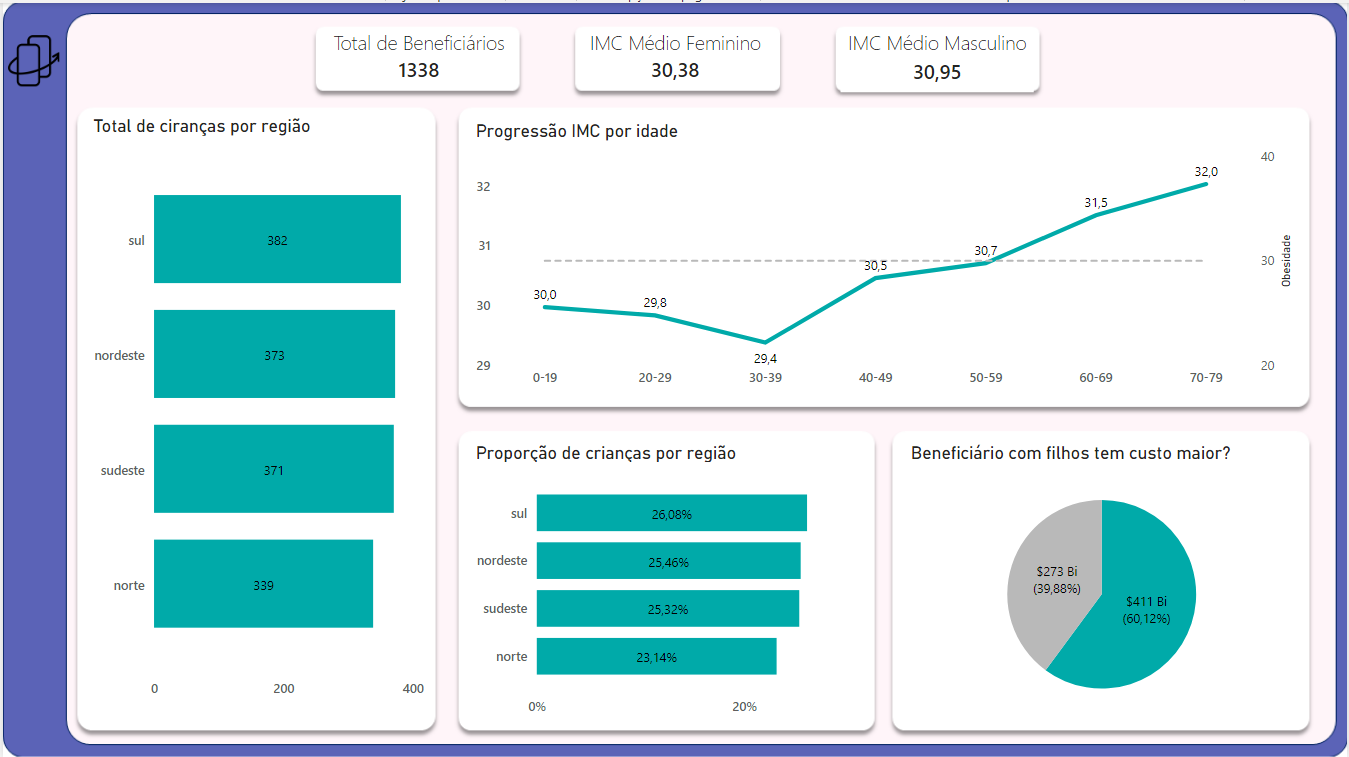

This screenshot's page, from the dashboard's own definition file:
{"tool":"powerbi","page":{"name":"Perfil Usuário","canvas":[1280,720],"ordinal":1},"visuals":[{"type":"image","box":[0,25.1,58.5,59.9],"z":1000},{"type":"barChart","title":"Total de ciranças por região","fields":{"Category":["seguro_saude_v2.regiao"],"Y":["Sum(seguro_saude_v2.crianca)"]},"box":[80.9,107.1,324.9,565.3],"z":2000},{"type":"pieChart","title":"Beneficiário com filhos tem custo maior?","fields":{"Category":["seguro_saude_v2.aux_beneficiarios-com-filhos"],"Y":["seguro_saude_v2.kpi-gasto-total"]},"box":[858.7,417.7,373.4,271.5],"z":3000},{"type":"barChart","title":"Proporção de crianças por região","fields":{"Category":["seguro_saude_v2.regiao"],"Y":["Divide(Sum(seguro_saude_v2.crianca), ScopedEval(Sum(seguro_saude_v2.crianca), []))"]},"box":[444.7,417.7,375.9,271.5],"z":4000},{"type":"lineChart","title":"Progressão IMC por idade","fields":{"Category":["seguro_saude_v2.aux_faixa-etaria"],"Y":["Avg(seguro_saude_v2.imc)"],"Y2":["seguro_saude_v2.aux_imc-obesidade"]},"box":[445.1,111.9,787.8,264.2],"z":5000},{"type":"card","title":"IMC Médio Feminino","fields":{"Values":["seguro_saude_v2.aux_imc-feminino"]},"box":[550.3,24.6,180.6,56.5],"z":6000},{"type":"card","title":"IMC Médio Masculino","fields":{"Values":["seguro_saude_v2.aux_imc-masculino"]},"box":[797.2,24.6,184.3,60.2],"z":7000},{"type":"card","title":"Total de Beneficiários","fields":{"Values":["seguro_saude_v2.aux_total-beneficiarios"]},"box":[305.9,24.6,180.6,56.5],"z":8000}]}

Visuals, with their boxes in screenshot pixels (x1, y1, x2, y2), scaled from the page's 1280x720 canvas onto the 1349x757 screenshot:
image: {"left": 0, "top": 26, "right": 62, "bottom": 89}
"Total de ciranças por região" barChart: {"left": 85, "top": 113, "right": 428, "bottom": 707}
"Beneficiário com filhos tem custo maior?" pieChart: {"left": 905, "top": 439, "right": 1299, "bottom": 725}
"Proporção de crianças por região" barChart: {"left": 469, "top": 439, "right": 865, "bottom": 725}
"Progressão IMC por idade" lineChart: {"left": 469, "top": 118, "right": 1299, "bottom": 395}
"IMC Médio Feminino" card: {"left": 580, "top": 26, "right": 770, "bottom": 85}
"IMC Médio Masculino" card: {"left": 840, "top": 26, "right": 1034, "bottom": 89}
"Total de Beneficiários" card: {"left": 322, "top": 26, "right": 513, "bottom": 85}
